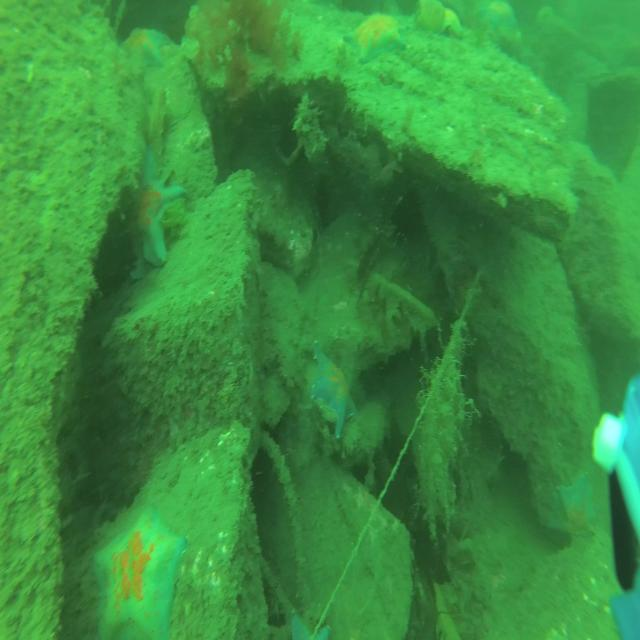starfish: (94, 514, 184, 638), (136, 151, 187, 261), (306, 350, 356, 436), (344, 13, 406, 59), (555, 471, 596, 535), (121, 28, 172, 72), (289, 612, 332, 640), (441, 5, 464, 38)
